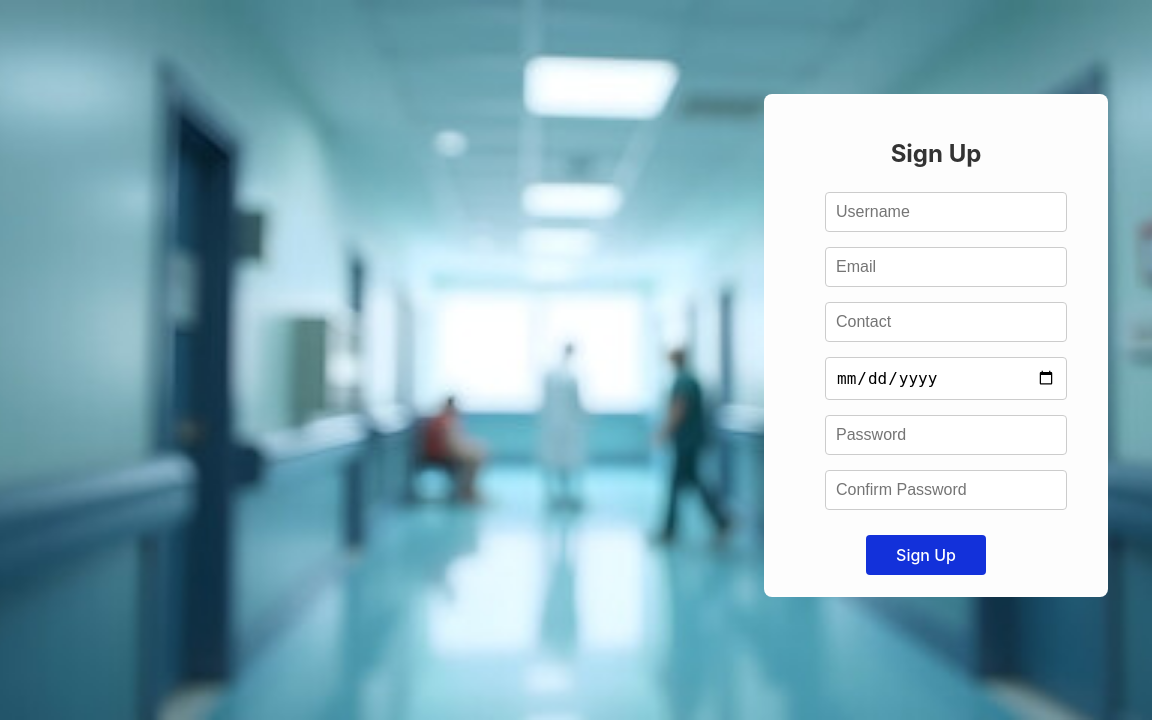
signup component › displays error message when email format is invalid
Step 1. Type "invalid-email" into the field with placeholder "Email" → (946, 267), box x1=825 y1=247 x2=1067 y2=287
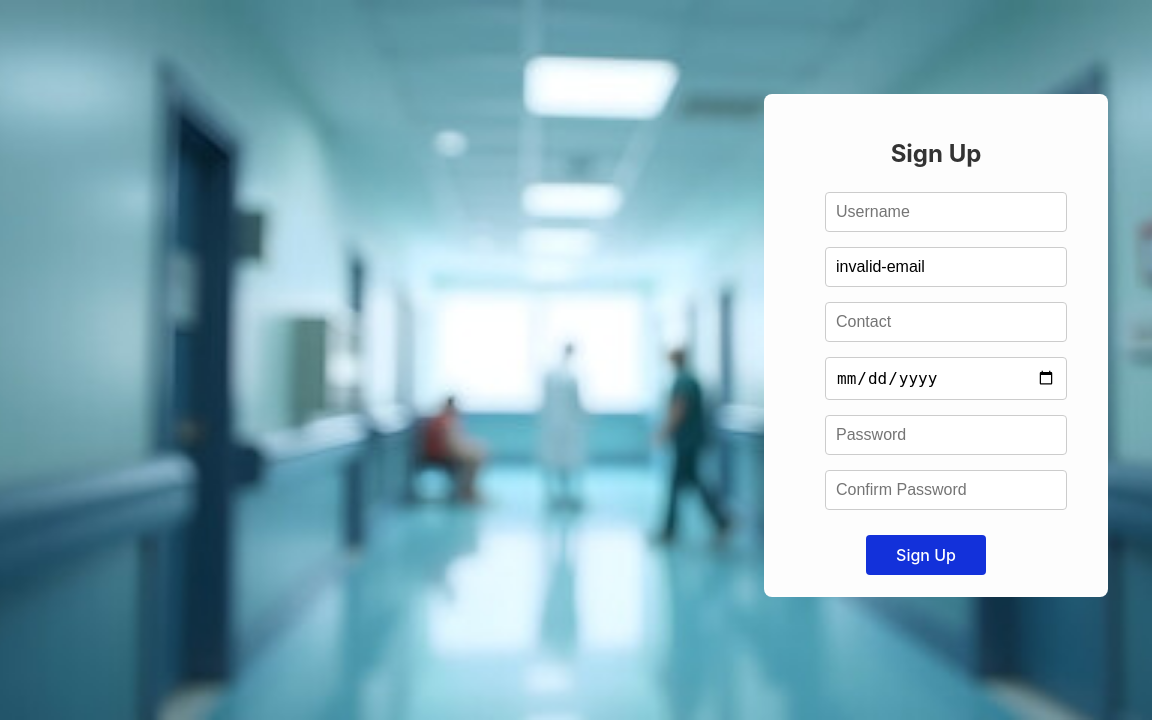
Step 2. Submit the form from the button, box x1=866 y1=535 x2=986 y2=575
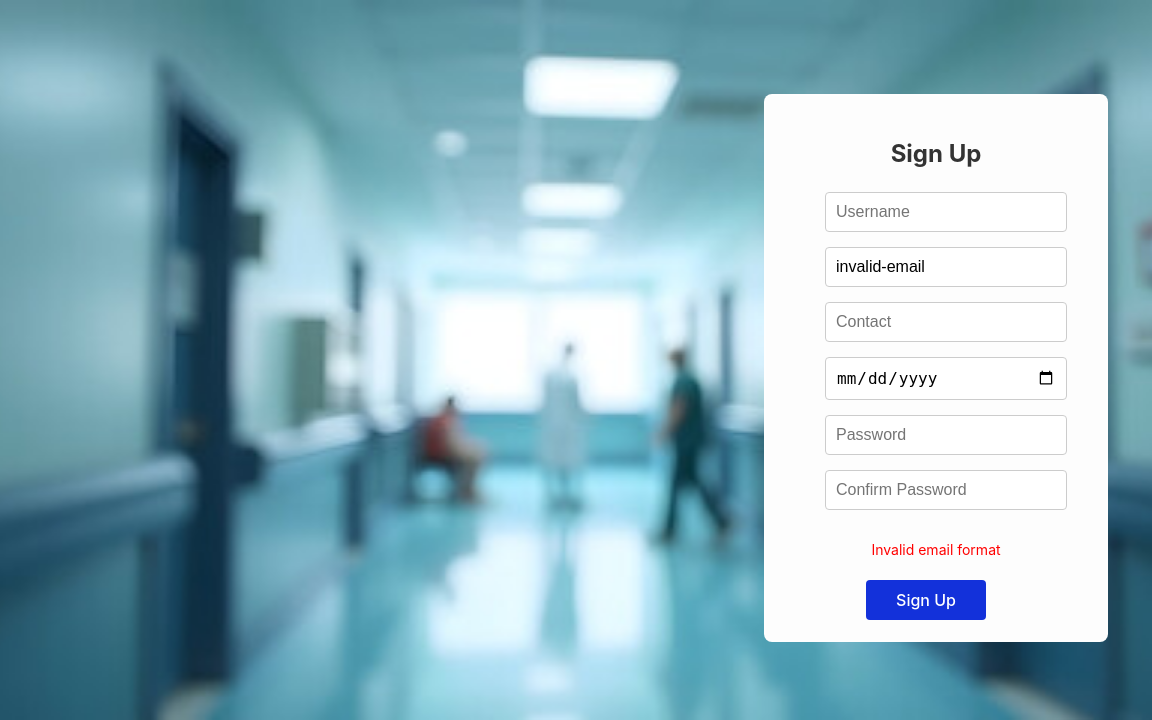
Result: the text "Invalid email format" is shown at x1=871 y1=541 x2=1001 y2=558
